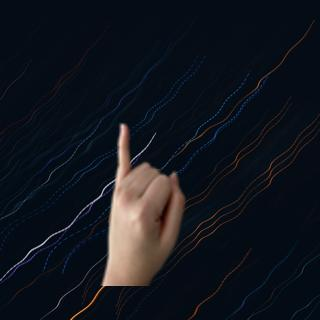Fine: (104, 120, 192, 285)
